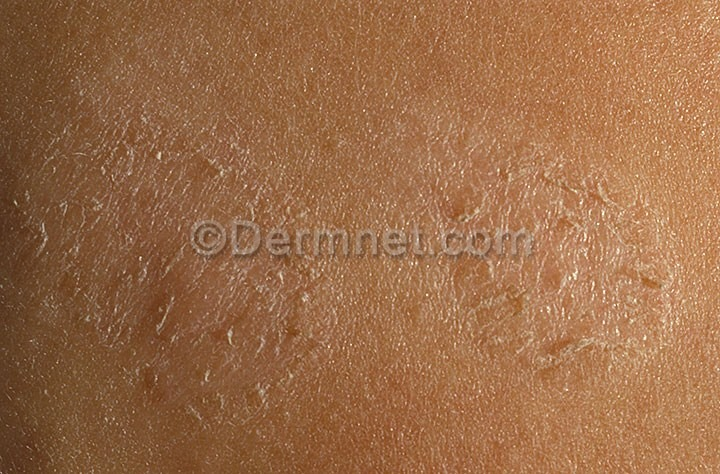Eczema: (1, 2, 717, 474)
